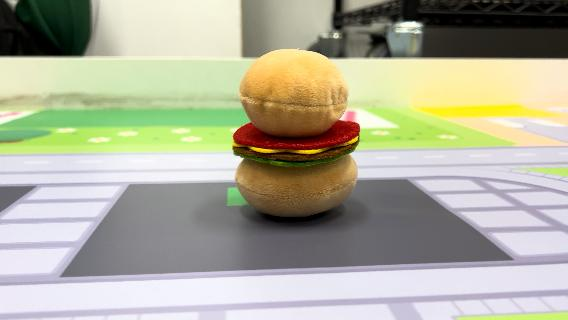burger: (227, 44, 365, 220)
